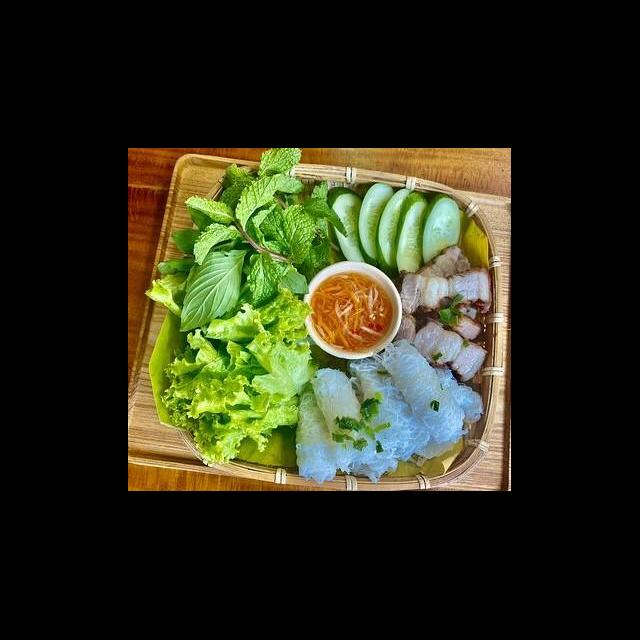banh hoi: (310, 366, 402, 484), (372, 336, 470, 446), (346, 354, 434, 466), (293, 386, 352, 484), (424, 358, 486, 428)
banh hoi heo quay: (151, 162, 498, 482)
thit heo quay: (392, 316, 491, 386), (392, 266, 496, 322), (411, 240, 474, 290), (416, 300, 486, 344)
